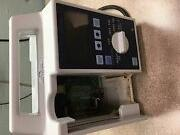plumxl1: (7, 1, 144, 133)
